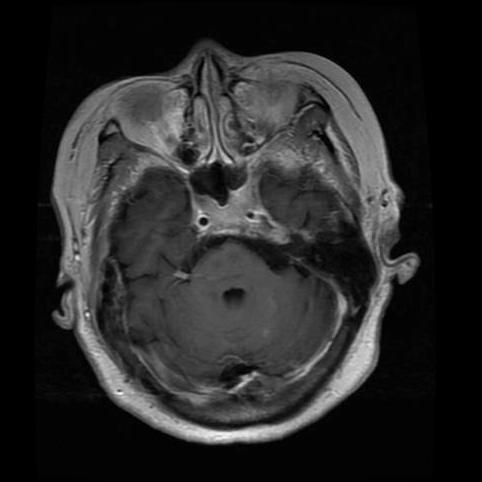Tumour-Pituitary: (187, 178, 270, 242)
